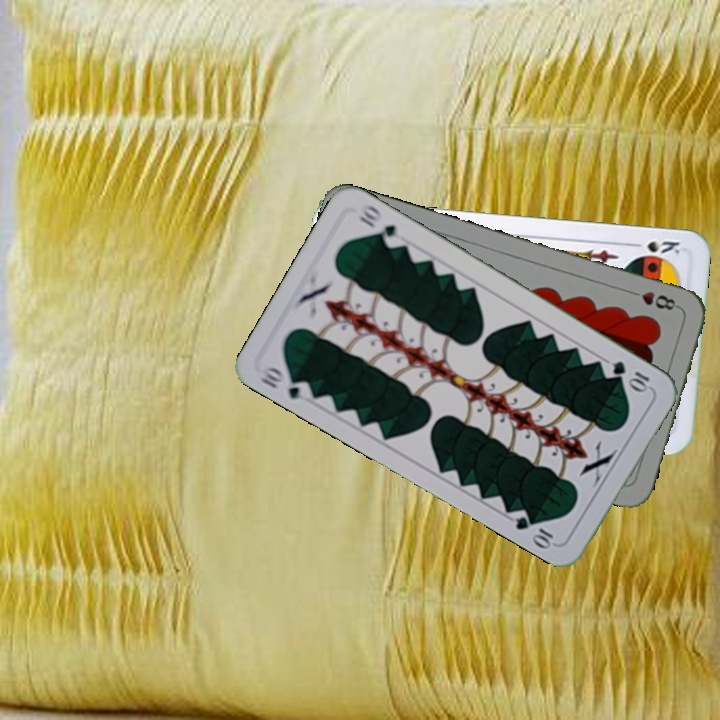G10: (256, 361, 315, 402), (608, 356, 654, 394)
H8: (624, 286, 682, 313)
SK: (626, 237, 683, 259)
